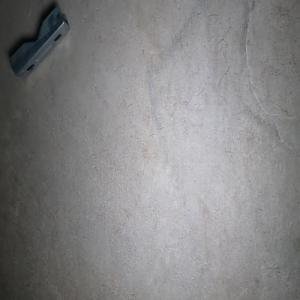ClampPart: (9, 4, 71, 81)
